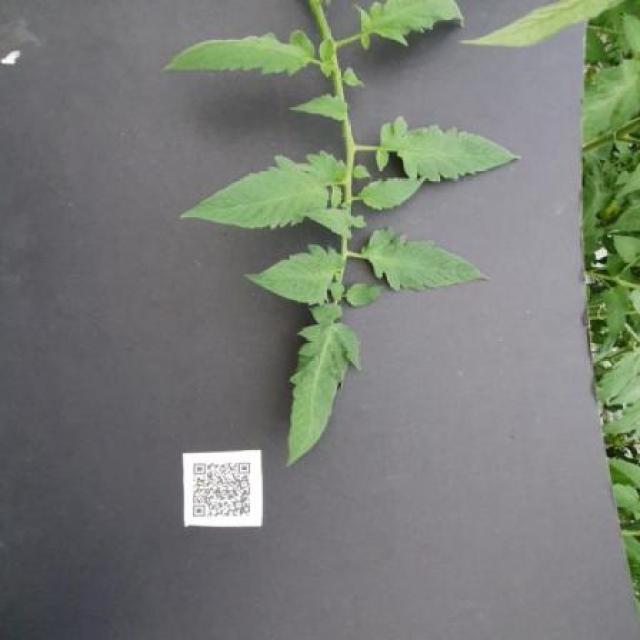Healthy: (171, 150, 346, 230), (286, 303, 361, 467), (376, 116, 523, 183), (361, 227, 490, 292), (162, 30, 317, 77), (245, 243, 346, 307), (352, 0, 467, 50), (358, 175, 428, 211)
